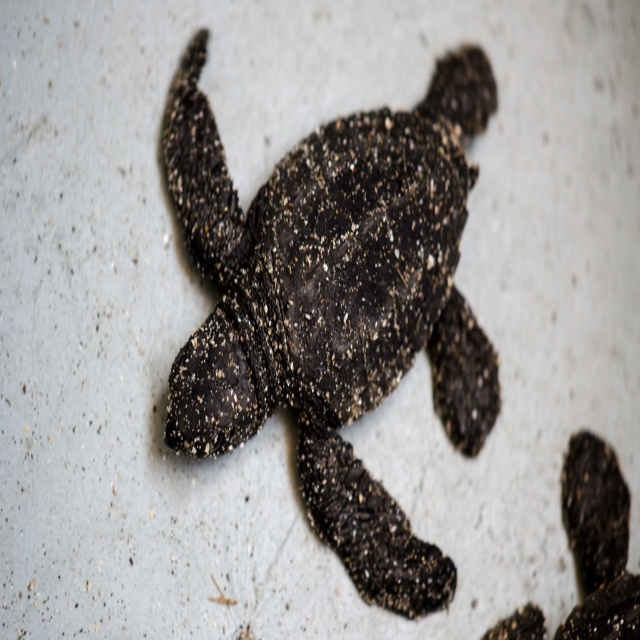Sea turtle: (163, 28, 498, 617), (481, 430, 640, 639)
